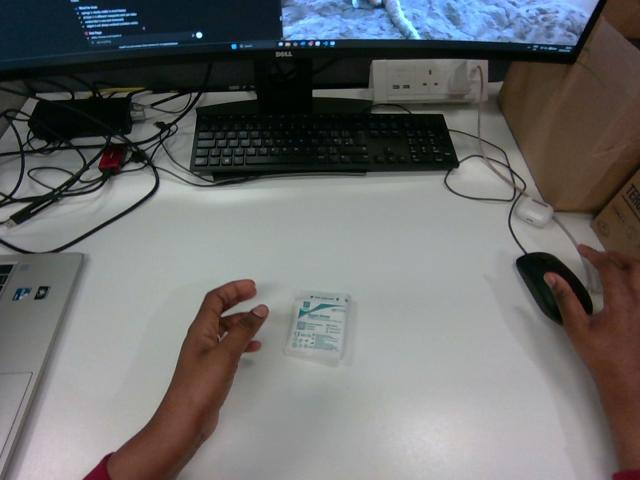gauze: (284, 293, 349, 366)
